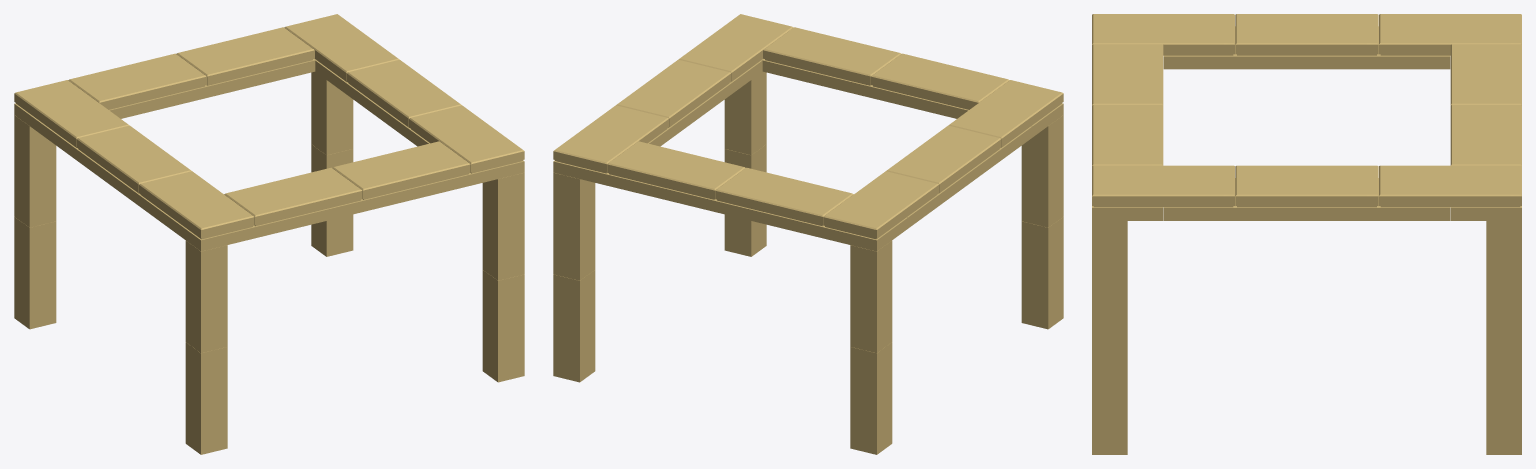
Rendered from castleStructur.fbx.
3 views of the same model, side by side, from view 1: azimuth 30°, elevation 25°; view 2: azimuth 150°, elevation 25°; view 3: azimuth 270°, elevation 25° (orthographic). The views are drawn at different scales.
Visible parts, largest first — view 1: Top.002, Top.001, Top.003, Top, Rod, Rod.001, Rod.002, Rpd; view 2: Top.002, Top, Top.003, Top.001, Rod.002, Rpd, Rod, Rod.001; view 3: Top.003, Top.002, Top, Top.001, Rod.001, Rpd.
Boxes of the visible parts, left/top/right/bottom form: Top.002: left=14, top=80, right=254, bottom=239; Top.001: left=170, top=141, right=524, bottom=251; Top.003: left=284, top=14, right=524, bottom=173; Top: left=14, top=27, right=316, bottom=136; Rod: left=185, top=240, right=227, bottom=454; Rod.001: left=482, top=172, right=524, bottom=382; Rod.002: left=14, top=115, right=56, bottom=329; Rpd: left=311, top=71, right=353, bottom=256; Top.002: left=823, top=80, right=1063, bottom=239; Top: left=553, top=141, right=907, bottom=251; Top.003: left=553, top=14, right=793, bottom=173; Top.001: left=761, top=27, right=1063, bottom=136; Rod.002: left=850, top=240, right=892, bottom=454; Rpd: left=553, top=172, right=595, bottom=382; Rod: left=1021, top=115, right=1063, bottom=329; Rod.001: left=724, top=71, right=766, bottom=256; Top.003: left=1092, top=165, right=1521, bottom=220; Top.002: left=1092, top=14, right=1521, bottom=69; Top: left=1450, top=44, right=1521, bottom=220; Top.001: left=1092, top=44, right=1163, bottom=220; Rod.001: left=1092, top=221, right=1127, bottom=454; Rpd: left=1486, top=221, right=1521, bottom=454.
Size of the model in its own units: 9592 by 6396 by 9592.
